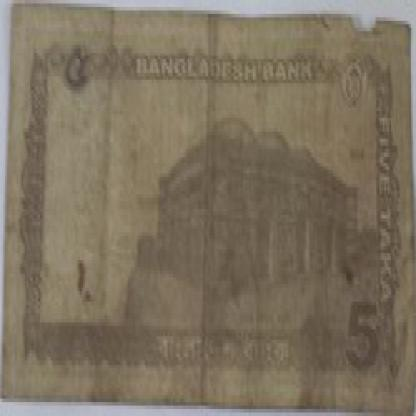Five Taka: (338, 288, 394, 388), (61, 31, 90, 114)
